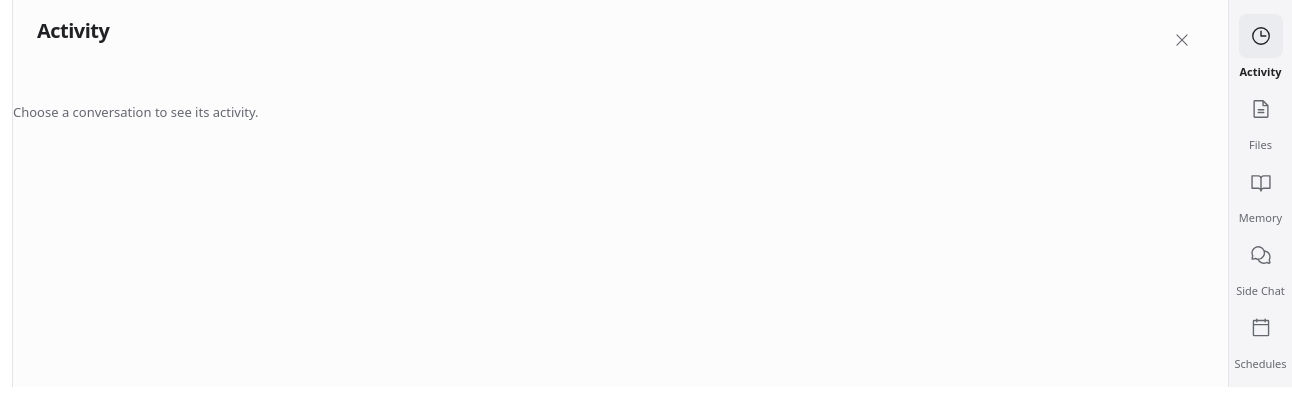
Test case: contextual workspace panel › keeps Side Chat and Schedules reachable as direct rail tabs
The image size is (1292, 404).
Click the tab "Schedules".
click(1260, 340)  # box [1233,306,1288,375]
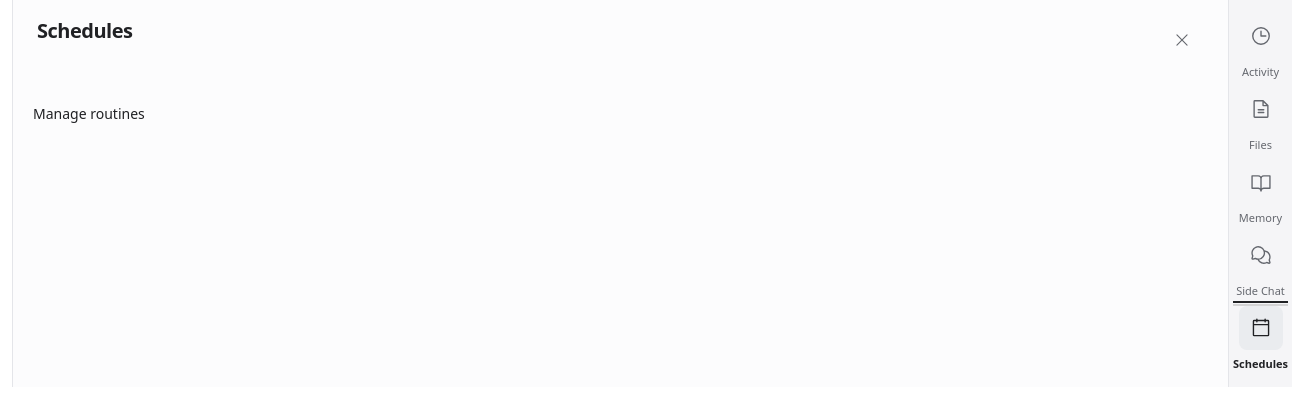
expect the text "Manage routines" is shown: met, box [33,104,145,123]
Click the tab "Side Chat".
click(1260, 268)  # box [1233,233,1288,302]
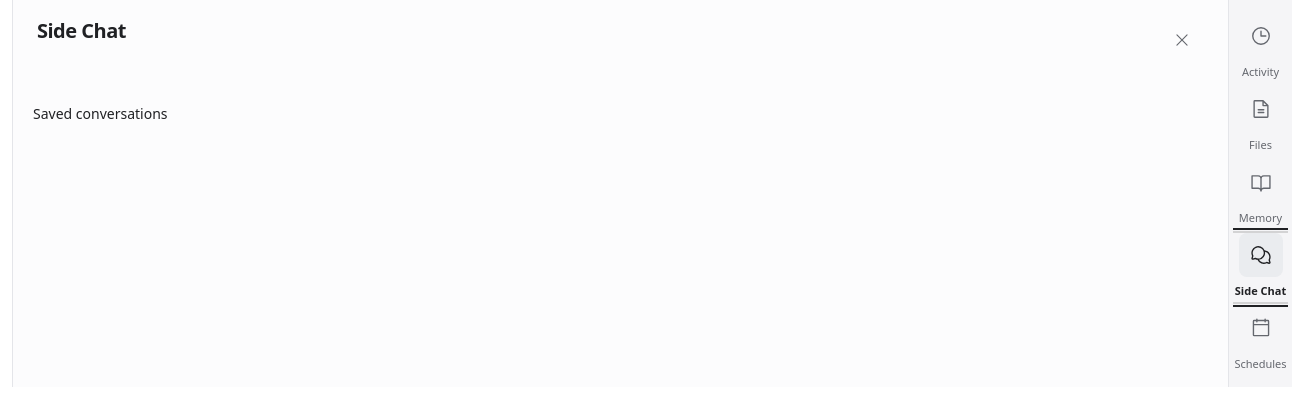
expect the text "Saved conversations" is shown: met, box [33,104,168,123]
expect the text "Manage routines" is gone: met
